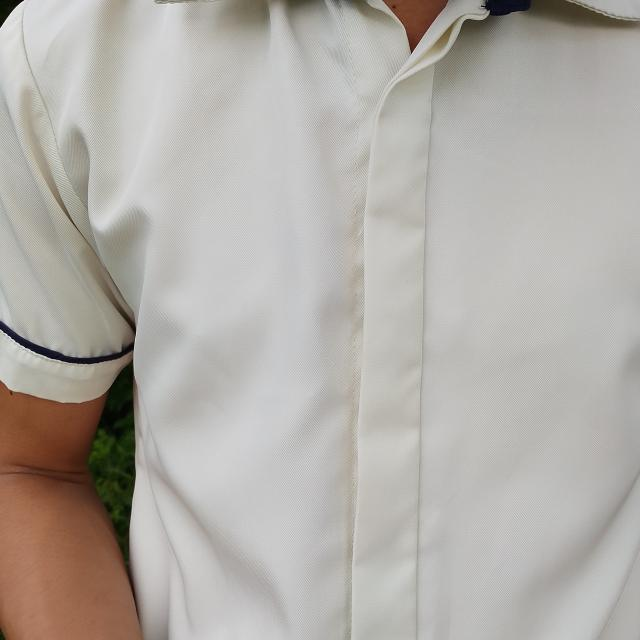education_male_uniform: (0, 0, 584, 640)
